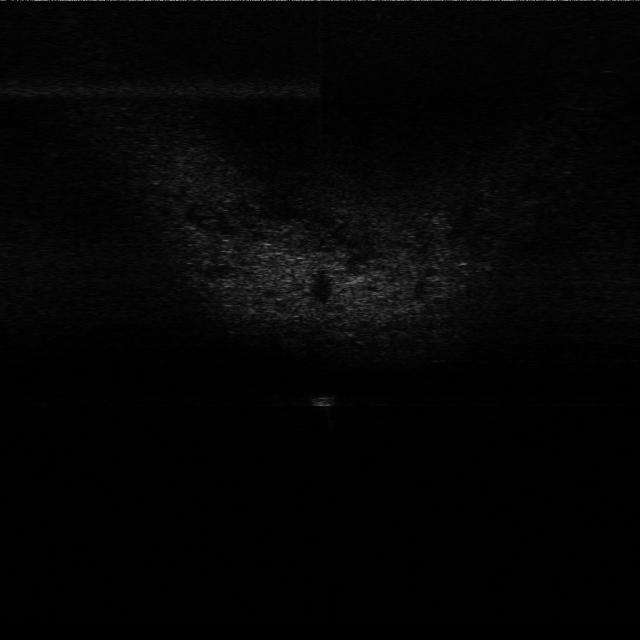cube: (309, 388, 343, 408)
